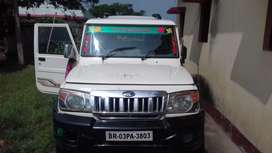BR03PA3803: (106, 130, 154, 141)
